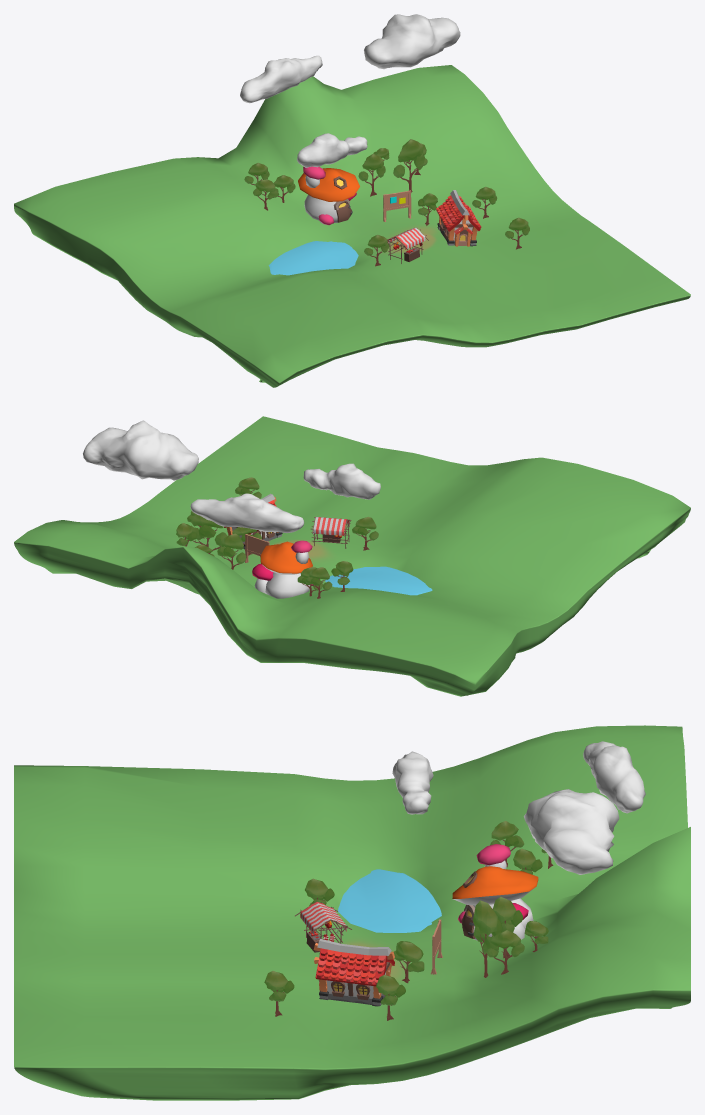
The model's file is mainbackground.glb.
The picture shows the model from 3 angles, top to bottom: view 1: azimuth 30°, elevation 25°; view 2: azimuth 150°, elevation 25°; view 3: azimuth 270°, elevation 25°; orthographic projection. The views are drawn at different scales.
Parts seen in each view (by area): view 1: ground, Cloud_Large 2.001, house_001, lake, Cloud_Large 2, house_003, Cloud_Large, tree1.008, stall_001, board; view 2: ground, Cloud_Large 2.001, Cloud_Large 2, house_001, lake, Cloud_Large, stall_001, tree1.008, tree1.004, tree1.002, tree1.007; view 3: ground, Cloud_Large 2.001, lake, house_003, house_001, Cloud_Large 2, Cloud_Large, stall_001, tree1.008, tree1.009, tree1.003, tree1.004 (+3 smaller).
Boxes of the visible parts, box(x1,y1,x2,y2) form: ground: box(14, 65, 690, 387); Cloud_Large 2.001: box(364, 14, 460, 69); house_001: box(298, 166, 359, 225); lake: box(268, 241, 358, 275); Cloud_Large 2: box(240, 55, 322, 103); house_003: box(436, 190, 481, 246); Cloud_Large: box(297, 133, 367, 167); tree1.008: box(393, 139, 424, 192); stall_001: box(387, 227, 428, 263); board: box(383, 190, 411, 221); ground: box(14, 416, 690, 696); Cloud_Large 2.001: box(83, 420, 198, 480); Cloud_Large 2: box(190, 493, 304, 532); house_001: box(252, 540, 313, 598); lake: box(325, 566, 432, 595); Cloud_Large: box(303, 463, 380, 499); stall_001: box(310, 517, 351, 548); tree1.008: box(187, 514, 227, 553); tree1.004: box(217, 533, 246, 569); tree1.002: box(352, 516, 378, 550); tree1.007: box(305, 567, 332, 598); ground: box(14, 725, 690, 1100); Cloud_Large 2.001: box(524, 789, 619, 874); lake: box(338, 869, 441, 932); house_003: box(313, 939, 394, 1006); house_001: box(452, 844, 538, 940); Cloud_Large 2: box(583, 741, 645, 813); Cloud_Large: box(392, 751, 433, 814); stall_001: box(295, 901, 351, 953); tree1.008: box(473, 900, 502, 977); tree1.009: box(393, 941, 424, 983); tree1.003: box(486, 930, 524, 974); tree1.004: box(493, 896, 522, 958).
Size of what is drawn, in the model's own units: 46.44 by 18.64 by 43.72.
Materials: 13 (6 with a texture image).
